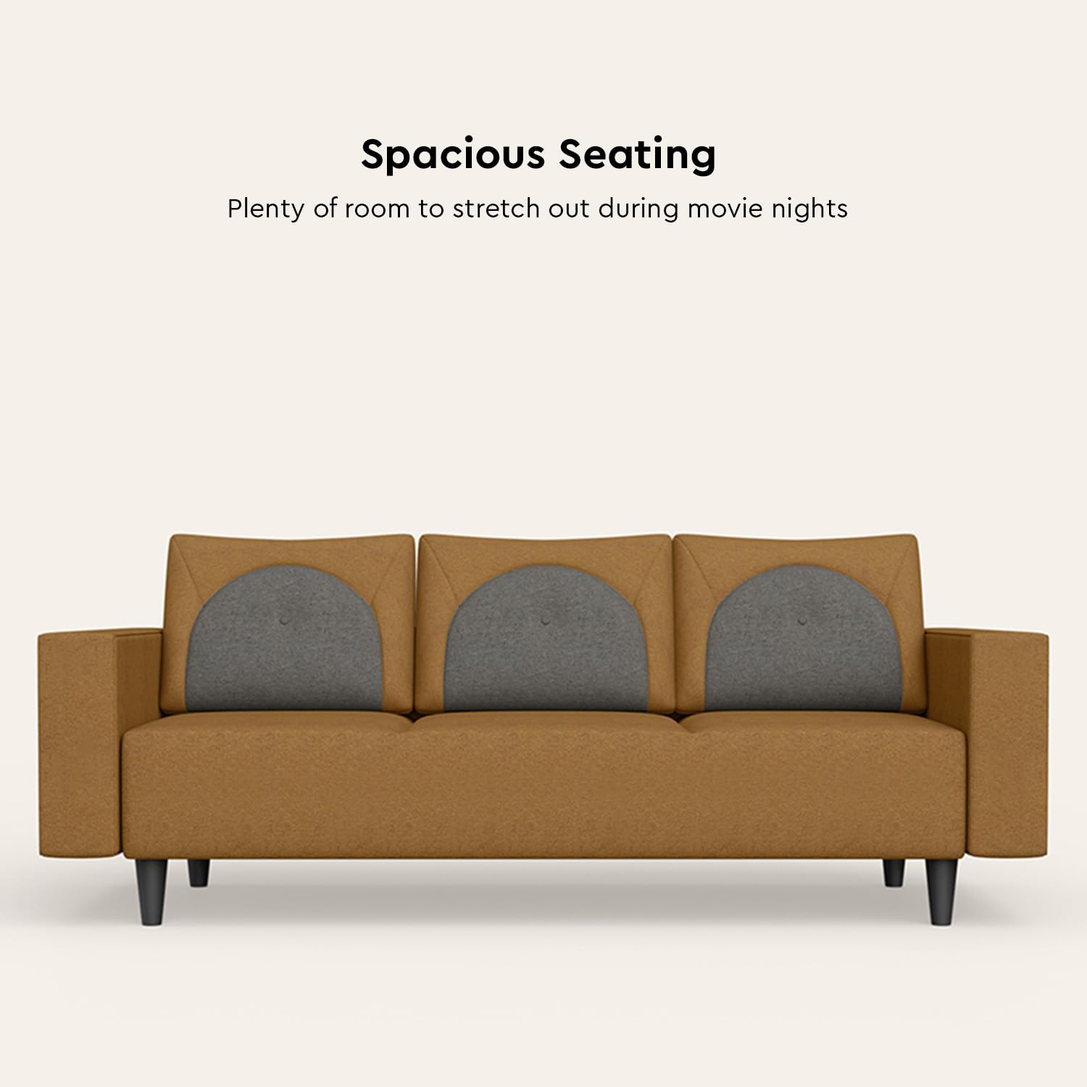backrest: (159, 535, 925, 714)
leftarmrest: (926, 629, 1046, 857)
leg: (136, 859, 167, 925)
rightarmrest: (39, 628, 160, 856)
seat: (119, 713, 967, 859)
